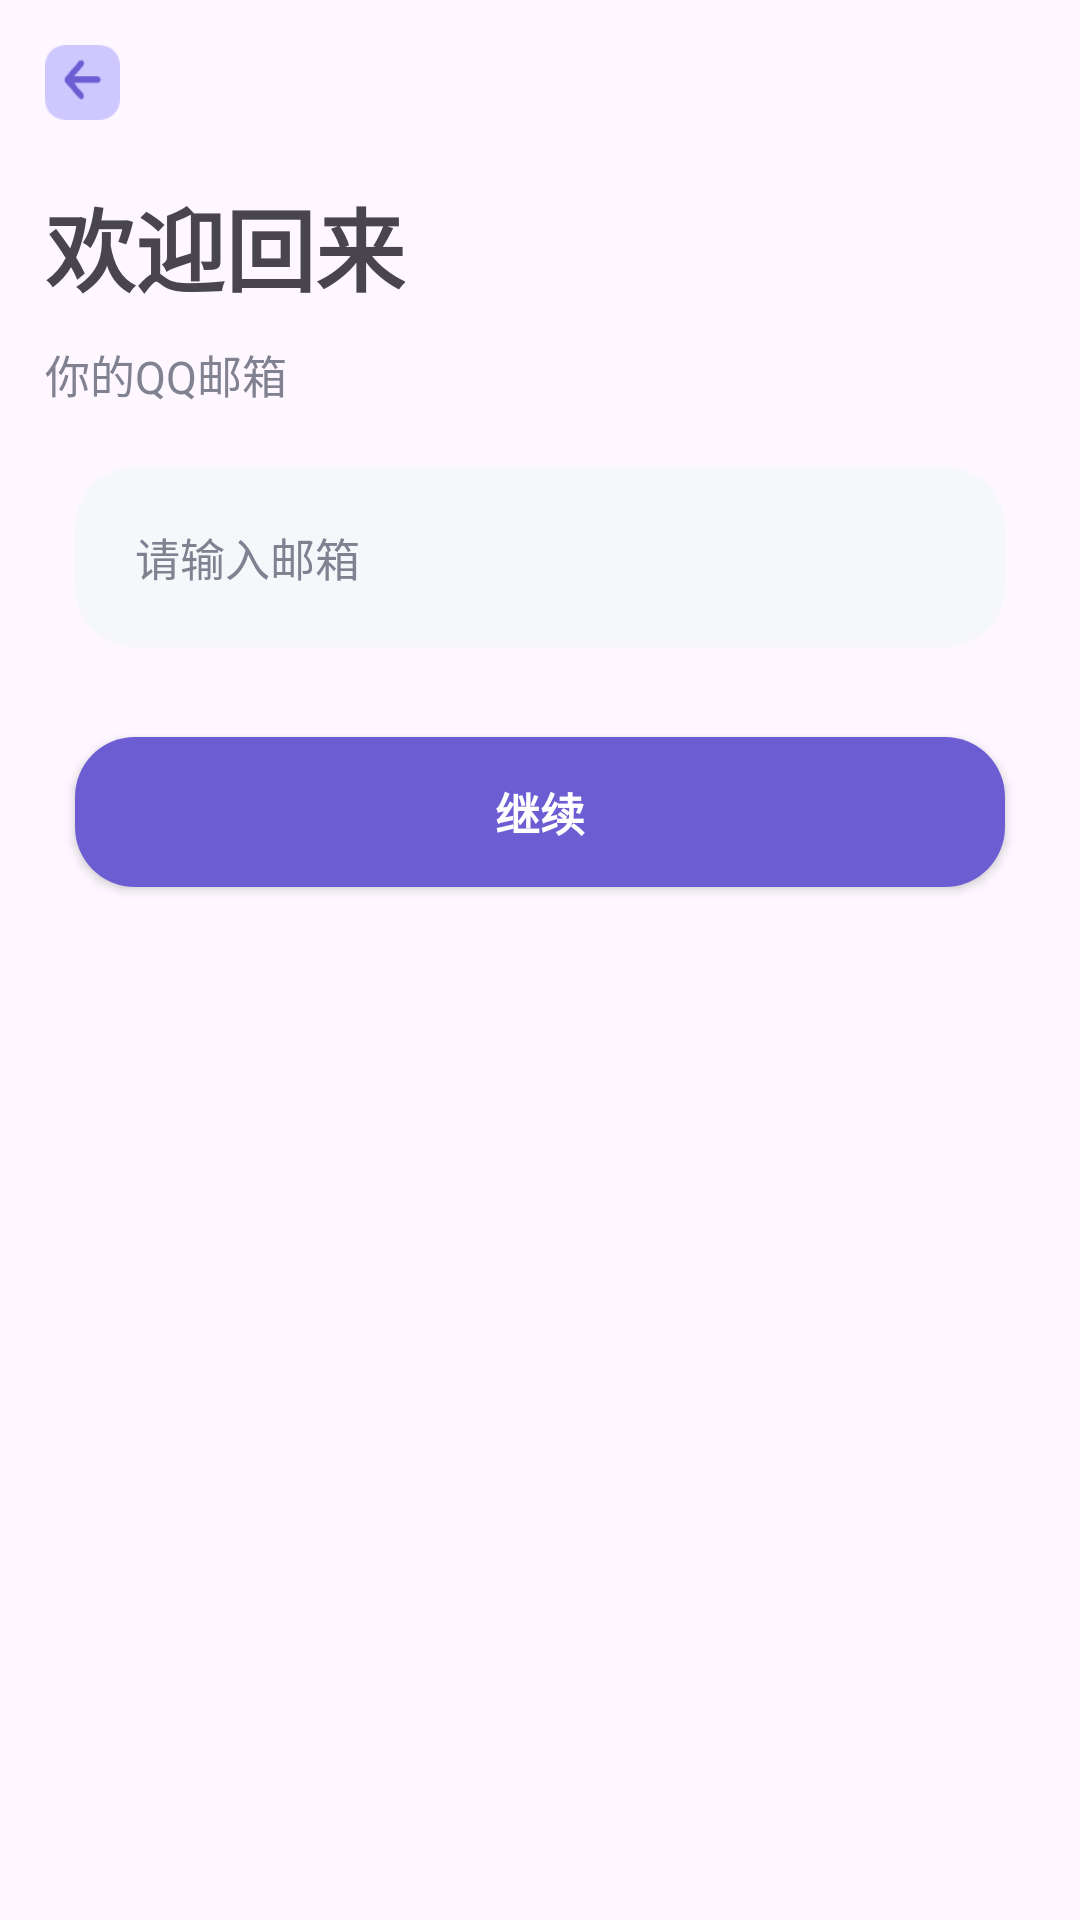

Screen size 1080x1920. Icon name, then its center in pixels as [x,y]:
back: [82,82]
